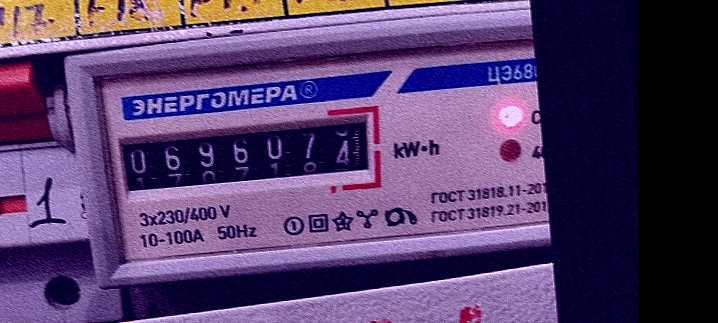0: (125, 143, 146, 174), (260, 130, 282, 159)
4: (329, 136, 349, 166)
6: (227, 133, 248, 163), (159, 141, 179, 170)
7: (295, 127, 317, 159)
9: (193, 138, 213, 168)
screen: (102, 99, 388, 211)
